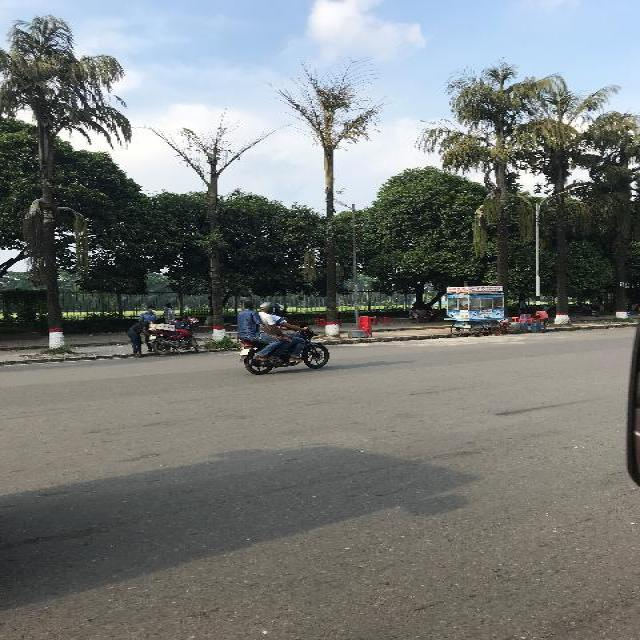bike: (235, 301, 332, 377), (150, 318, 204, 358)
